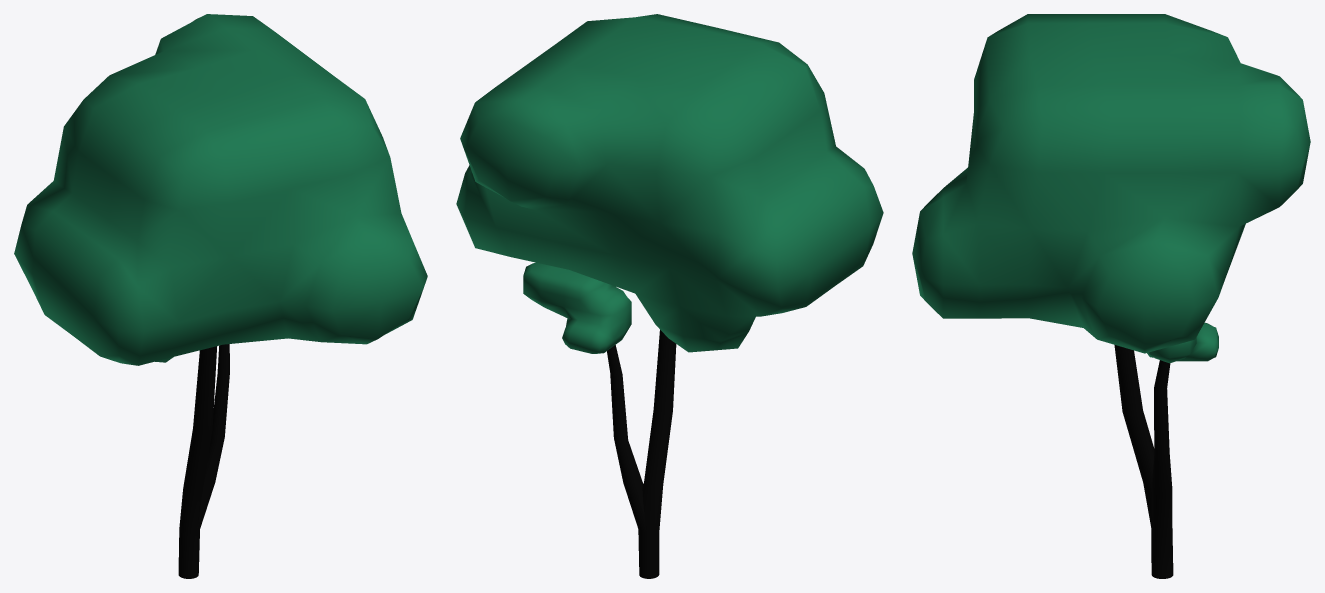
The model's file is tree_2.FBX.
3 views of the same model, side by side, from view 1: azimuth 30°, elevation 25°; view 2: azimuth 150°, elevation 25°; view 3: azimuth 270°, elevation 25° (orthographic). The views are drawn at different scales.
Parts seen in each view (by area): view 1: Cylinder004; view 2: Cylinder004; view 3: Cylinder004.
Part boxes in pixels (x1,y1,x2,y2): Cylinder004: (14,14,427,578); Cylinder004: (456,14,883,578); Cylinder004: (912,14,1310,578).
Size of the model in its own units: 1.12 by 1.55 by 1.06.
